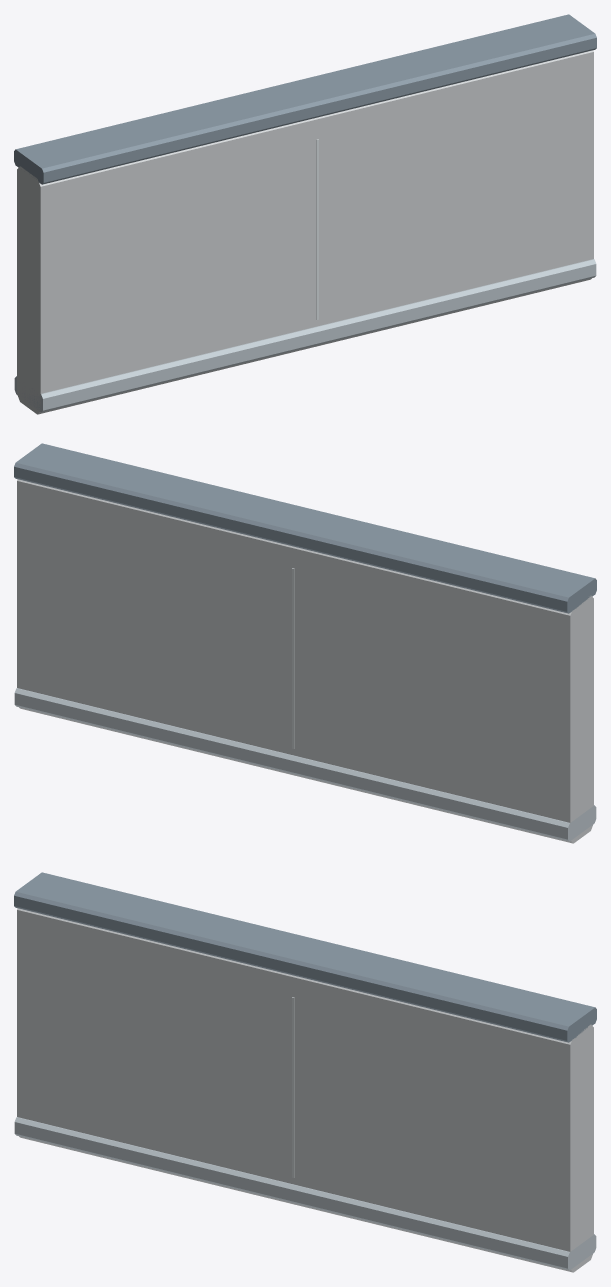
Rendered from wall_restaurant_dining.glb.
3 renders of one model, top to bottom at view 1: azimuth 30°, elevation 25°; view 2: azimuth 150°, elevation 25°; view 3: azimuth 330°, elevation 25°, orthographic.
Visible parts, largest first — view 1: Part_001, Part_002, Part_003, Part_005; view 2: Part_001, Part_002, Part_003, Part_004; view 3: Part_001, Part_002, Part_003, Part_005.
Boxes of the visible parts, left/top/right/bottom form: Part_001: left=17, top=50, right=593, bottom=414; Part_002: left=14, top=14, right=596, bottom=184; Part_003: left=14, top=259, right=596, bottom=412; Part_005: left=316, top=139, right=318, bottom=319; Part_001: left=17, top=479, right=593, bottom=843; Part_002: left=14, top=443, right=596, bottom=613; Part_003: left=14, top=688, right=596, bottom=841; Part_004: left=292, top=568, right=294, bottom=748; Part_001: left=17, top=908, right=593, bottom=1272; Part_002: left=14, top=872, right=596, bottom=1042; Part_003: left=14, top=1117, right=596, bottom=1270; Part_005: left=292, top=997, right=294, bottom=1177.
Size of the model in its own units: 2.7 by 1.16 by 0.25.
